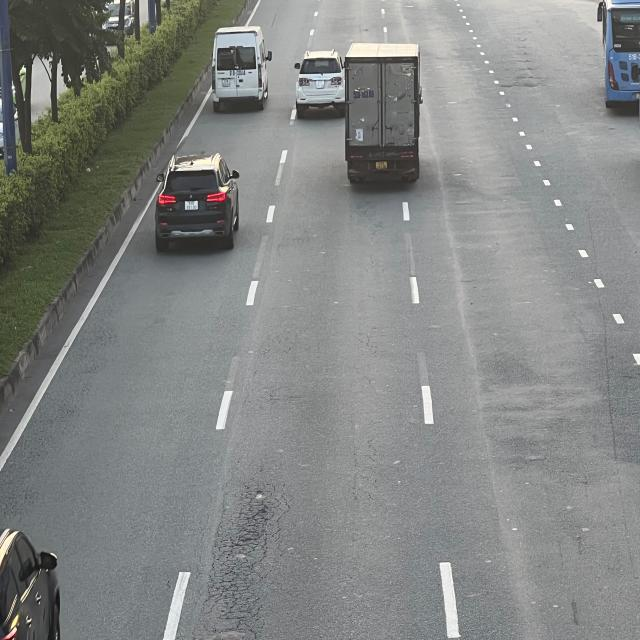car: (156, 158, 243, 254), (292, 52, 346, 117)
coach: (601, 0, 640, 110)
truck: (344, 40, 421, 183)
van: (210, 28, 270, 112)
